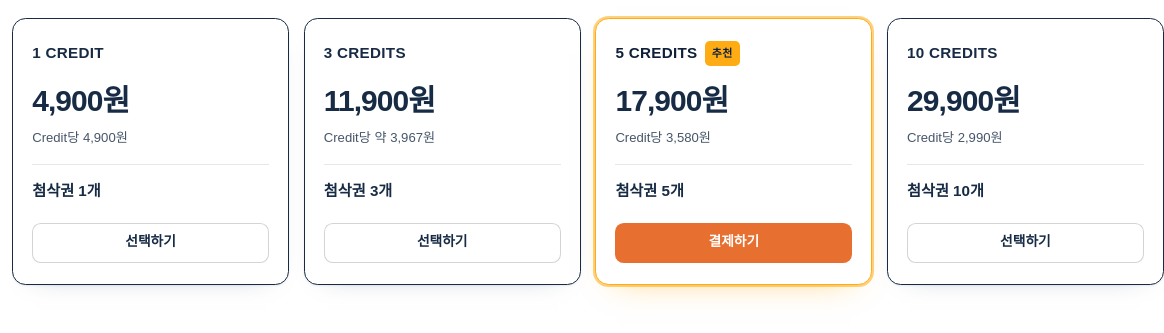
Test: pricing product grid › shows an order failure and allows a retry without opening Toss
Step 1. Click the button "결제하기" → (734, 242), box [615, 222, 852, 262]
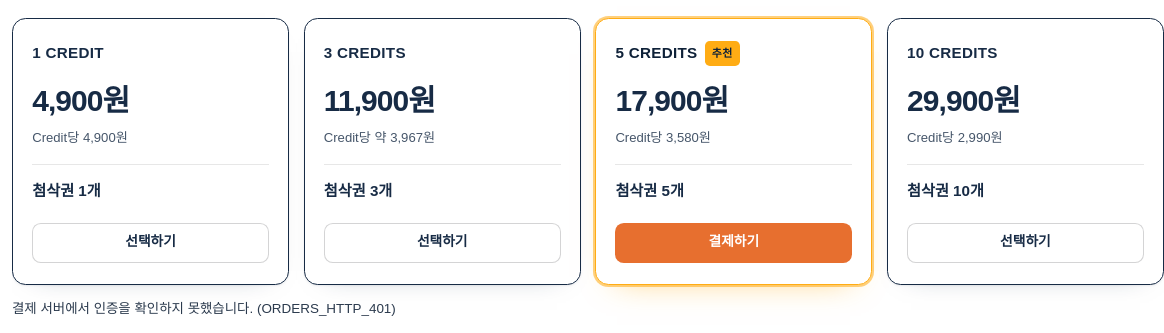
Check: the text "결제 서버에서 인증을 확인하지 못했습니다. (ORDERS_HTTP_401)" is shown, box [12, 301, 396, 316]
